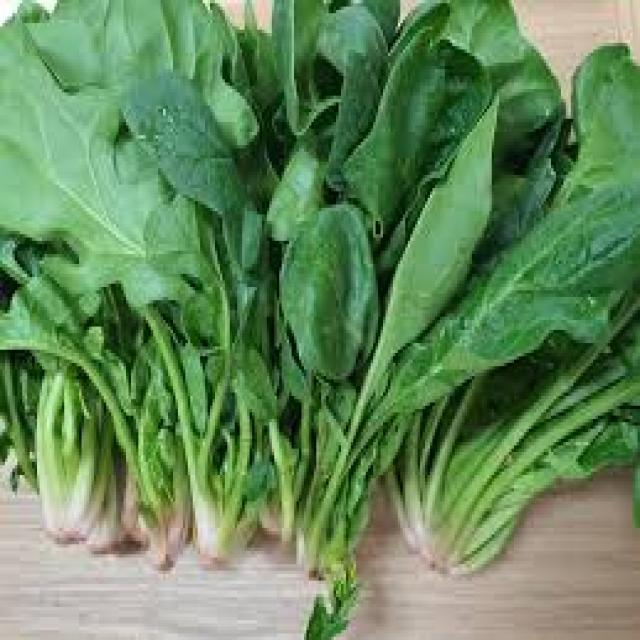Spinach bagged/loose: (0, 0, 640, 582)
